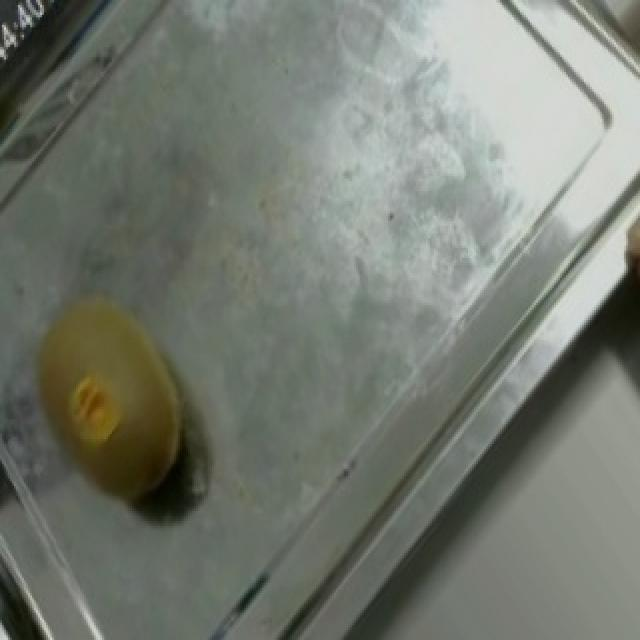Fruit: (0, 261, 232, 544)
